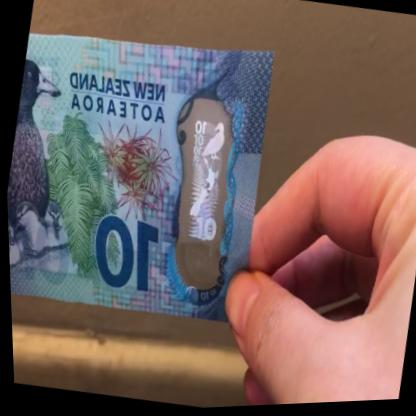10F: (170, 113, 237, 261)
